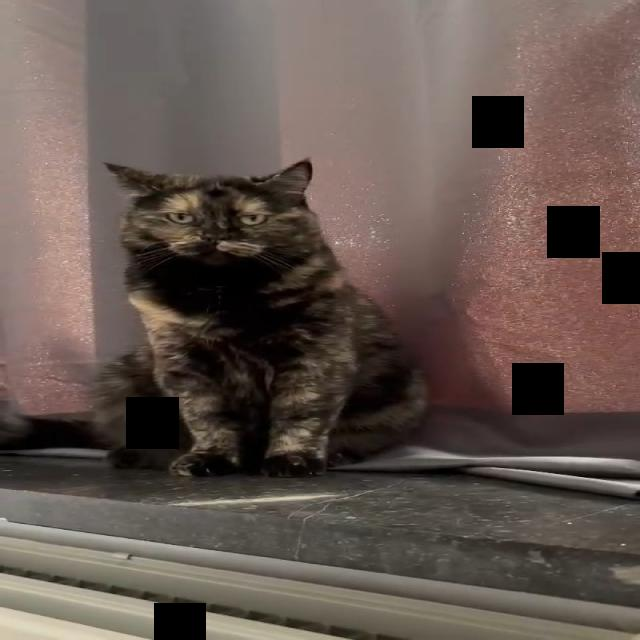authorized: (88, 156, 431, 478)
